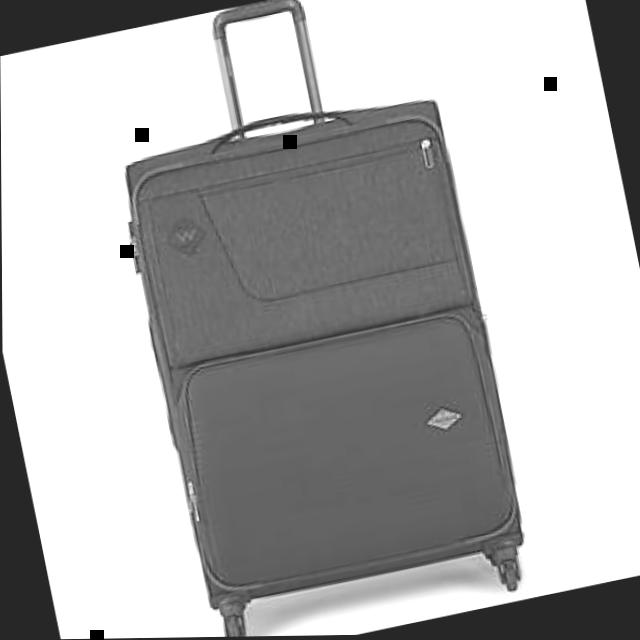luggage: (100, 78, 549, 624)
